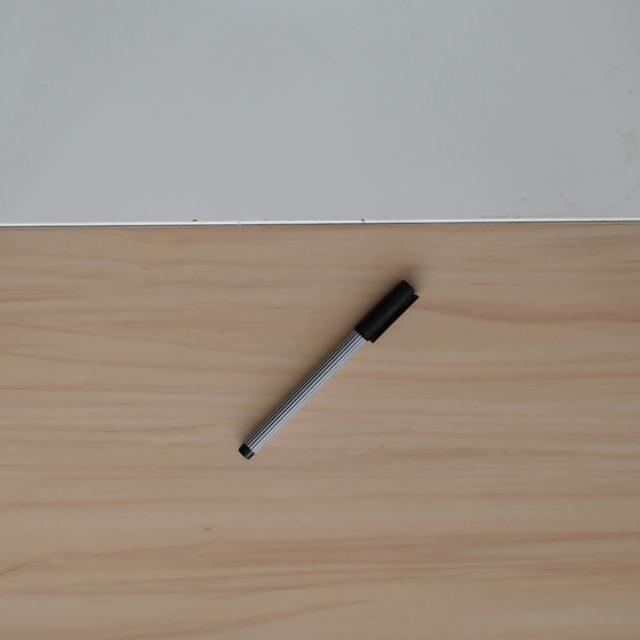Pulpen-Garis-Hitam: (232, 277, 421, 466)
